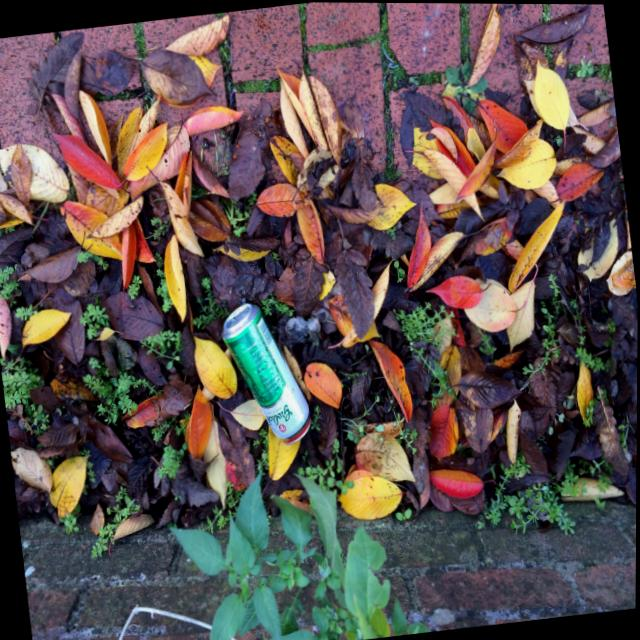Can-Metal: (205, 283, 335, 480)
